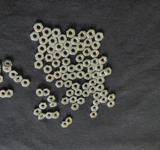nut: (34, 22, 44, 33), (63, 40, 73, 50), (29, 32, 40, 41), (2, 64, 12, 73), (21, 78, 31, 87), (43, 88, 52, 98), (43, 27, 52, 37), (35, 52, 45, 61), (38, 44, 48, 53), (48, 37, 58, 46), (83, 47, 92, 57), (8, 71, 19, 79), (3, 60, 12, 69), (44, 65, 53, 74), (82, 90, 91, 99), (52, 59, 61, 68), (47, 45, 56, 54), (52, 27, 61, 36), (54, 51, 63, 60), (71, 36, 80, 45), (87, 30, 96, 39), (91, 49, 100, 58), (77, 42, 86, 51), (97, 76, 106, 85), (39, 36, 49, 44), (44, 54, 54, 62), (67, 28, 75, 38), (14, 75, 23, 83), (34, 61, 43, 69), (45, 112, 53, 121), (53, 111, 61, 120), (36, 88, 44, 97), (48, 95, 57, 103), (62, 97, 70, 106), (93, 92, 102, 100), (56, 79, 64, 88), (62, 73, 70, 82), (62, 58, 71, 66), (70, 72, 78, 81), (68, 65, 76, 74), (76, 54, 84, 63), (55, 43, 64, 51), (95, 33, 104, 41), (79, 31, 87, 40), (76, 63, 84, 72), (83, 59, 91, 68), (92, 57, 100, 66), (93, 71, 101, 80), (6, 89, 13, 99), (34, 109, 42, 117), (39, 102, 47, 110), (38, 113, 46, 121), (66, 118, 74, 126), (70, 96, 78, 104), (77, 98, 85, 106), (101, 90, 109, 98), (46, 74, 54, 82), (54, 71, 62, 79), (65, 80, 73, 88), (67, 89, 75, 97), (75, 89, 83, 97), (60, 66, 68, 74), (59, 35, 67, 43), (62, 49, 70, 57), (70, 47, 78, 55), (93, 42, 101, 50), (76, 55, 84, 63), (96, 64, 104, 72), (85, 72, 93, 80), (0, 89, 7, 98), (90, 112, 99, 119), (107, 94, 116, 101), (72, 83, 81, 90), (100, 56, 107, 65), (84, 82, 91, 91), (50, 102, 58, 109), (72, 104, 80, 111), (91, 105, 99, 112), (93, 99, 101, 106), (101, 97, 108, 105), (90, 86, 97, 94), (97, 85, 105, 92), (78, 71, 85, 79), (85, 39, 93, 46), (88, 65, 95, 73), (106, 67, 112, 76), (62, 121, 69, 128), (108, 101, 115, 108), (100, 70, 107, 77), (90, 79, 97, 86), (50, 102, 58, 108), (0, 75, 3, 84), (0, 68, 2, 75)
